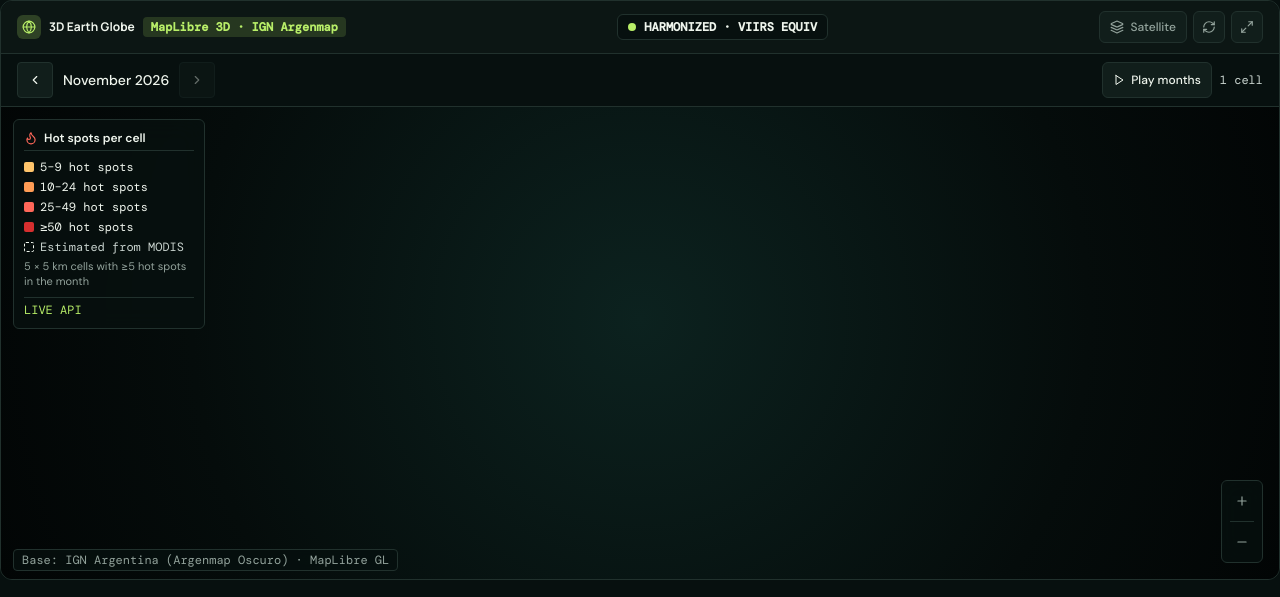
Scenario: GloboTerraqueo 3D Component › keeps only cells assigned to the selected province and reports API errors
Expected: the message reads "1 cell", top-left (1220, 72), bottom-right (1263, 88)
Click the button named "Previous month" at (35,80), box top-left (17, 62), bottom-right (53, 98)
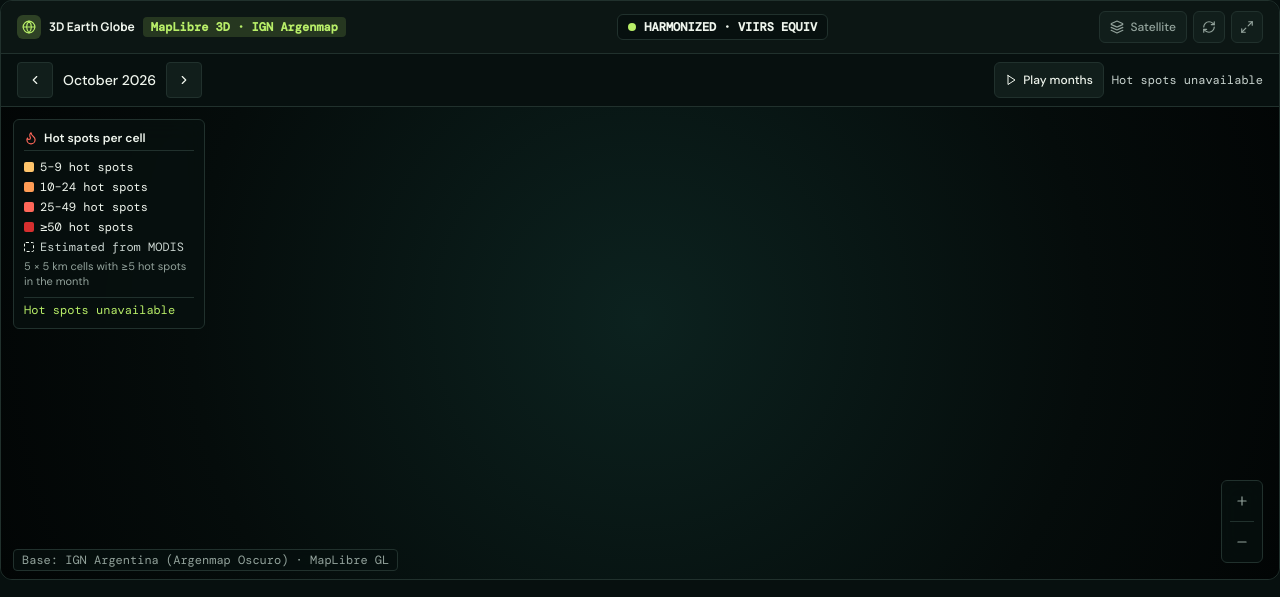
Expected: the message reads "Hot spots unavailable", top-left (1112, 72), bottom-right (1263, 88)
